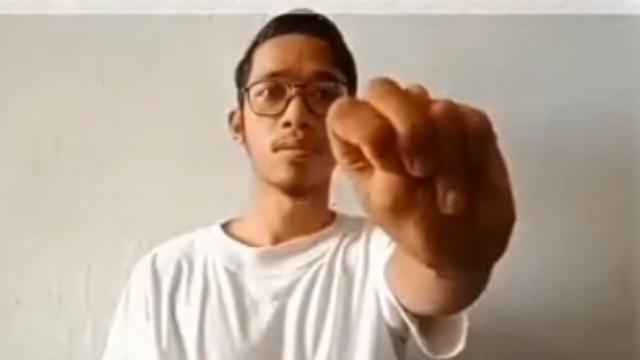N: (324, 76, 516, 270)
